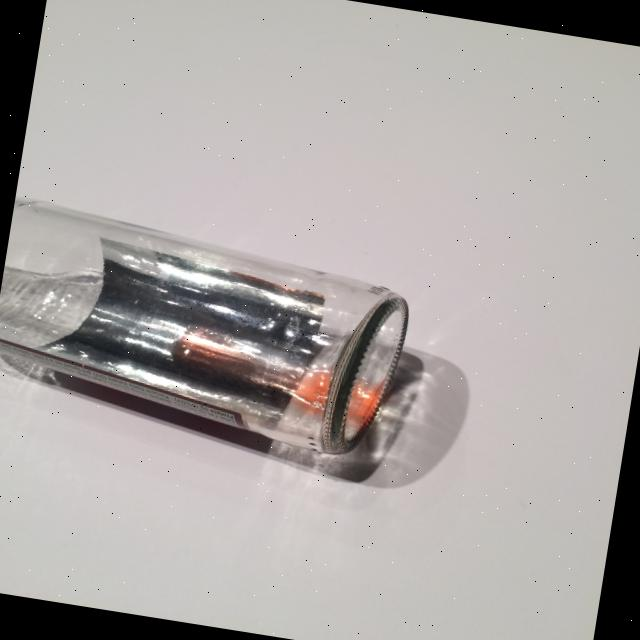glass: (0, 194, 420, 465)
